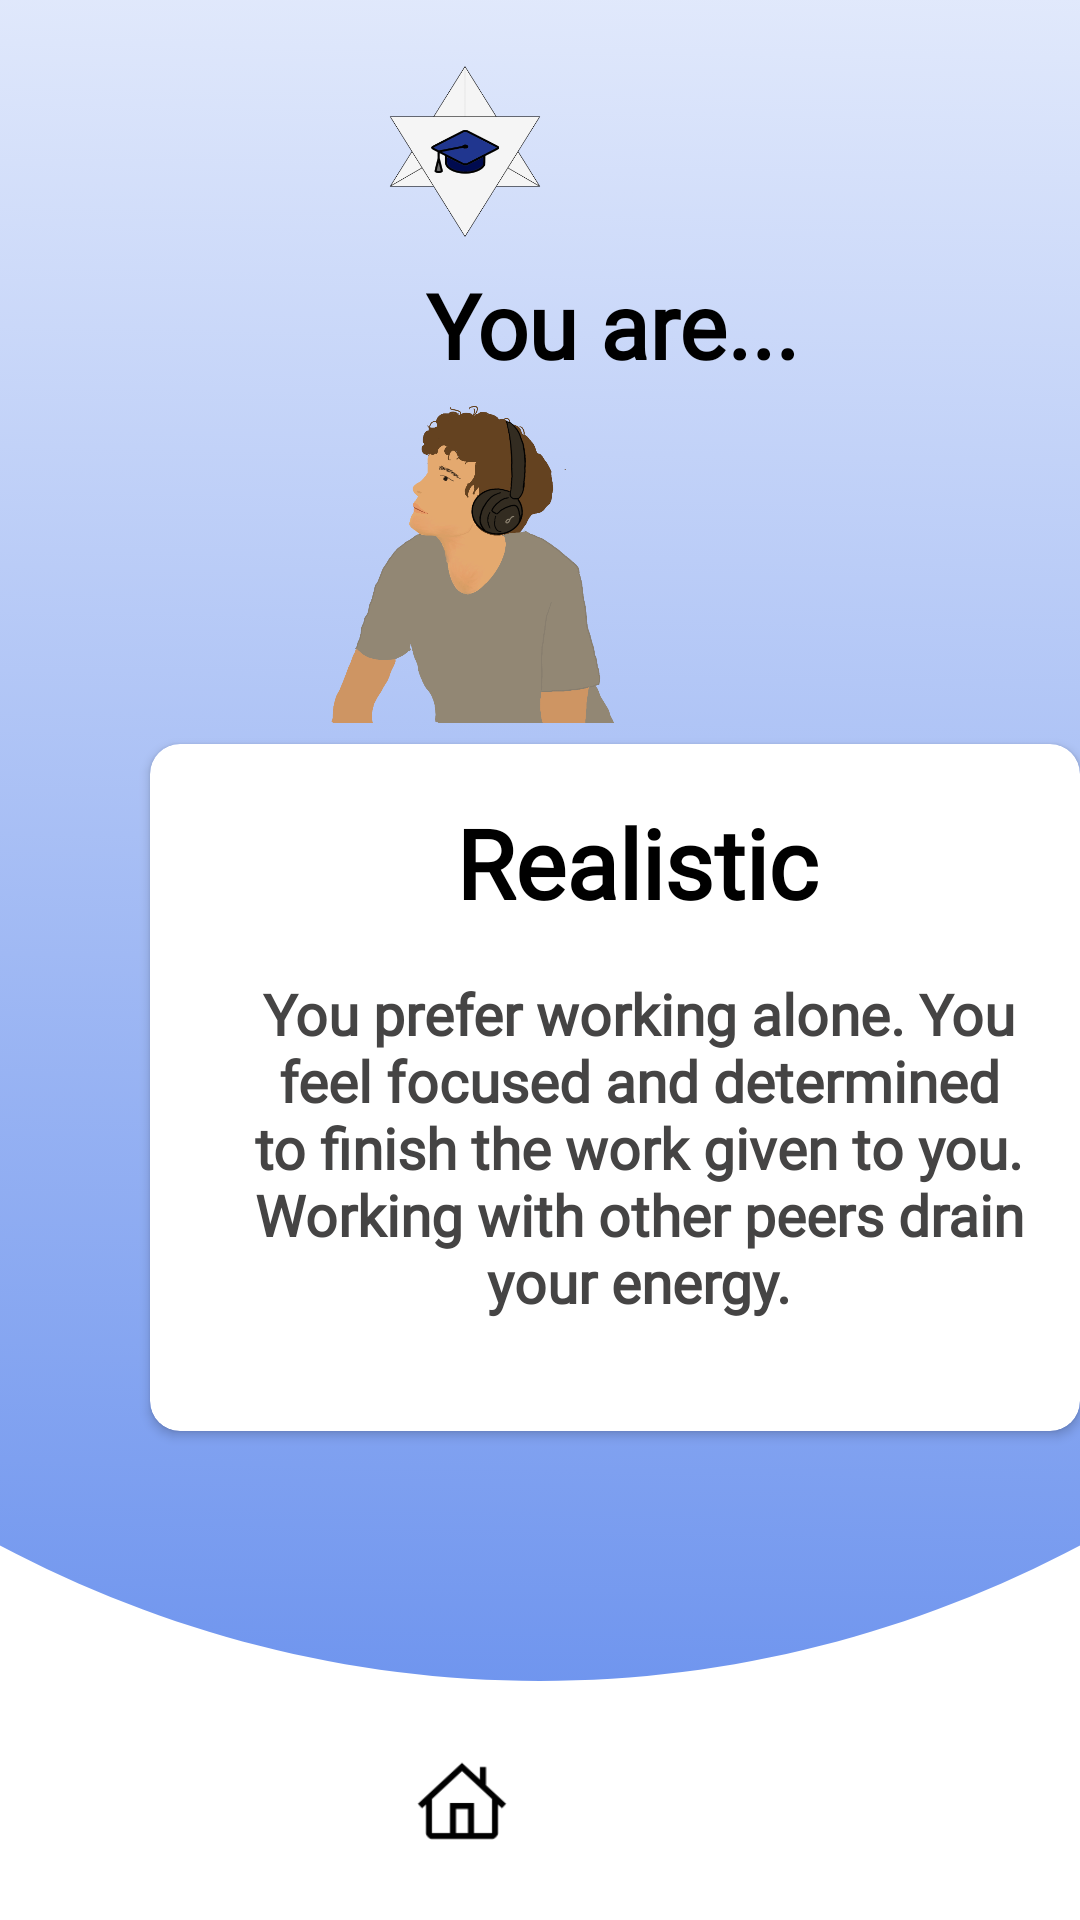

Locate icon controls on the screen. Image size 1080x1920, boxes as (x1, y1, x2, y2).
homeicon: (417, 1762, 507, 1840)
